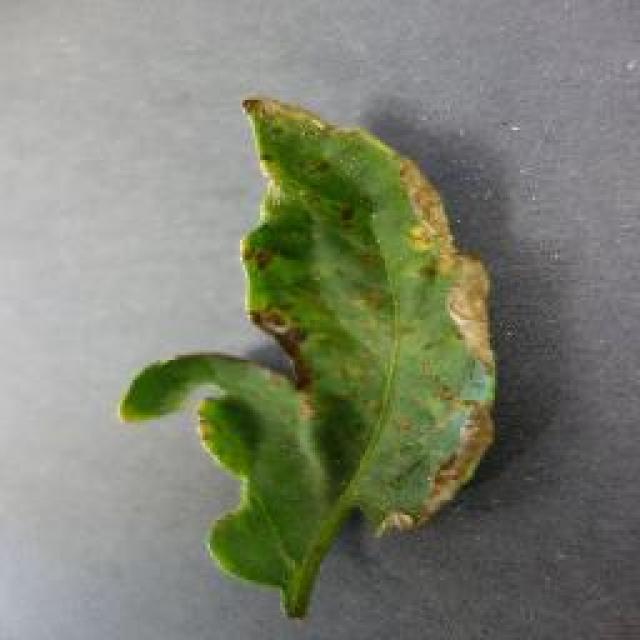Tomato bacterial spot leaf: (101, 82, 518, 634)
